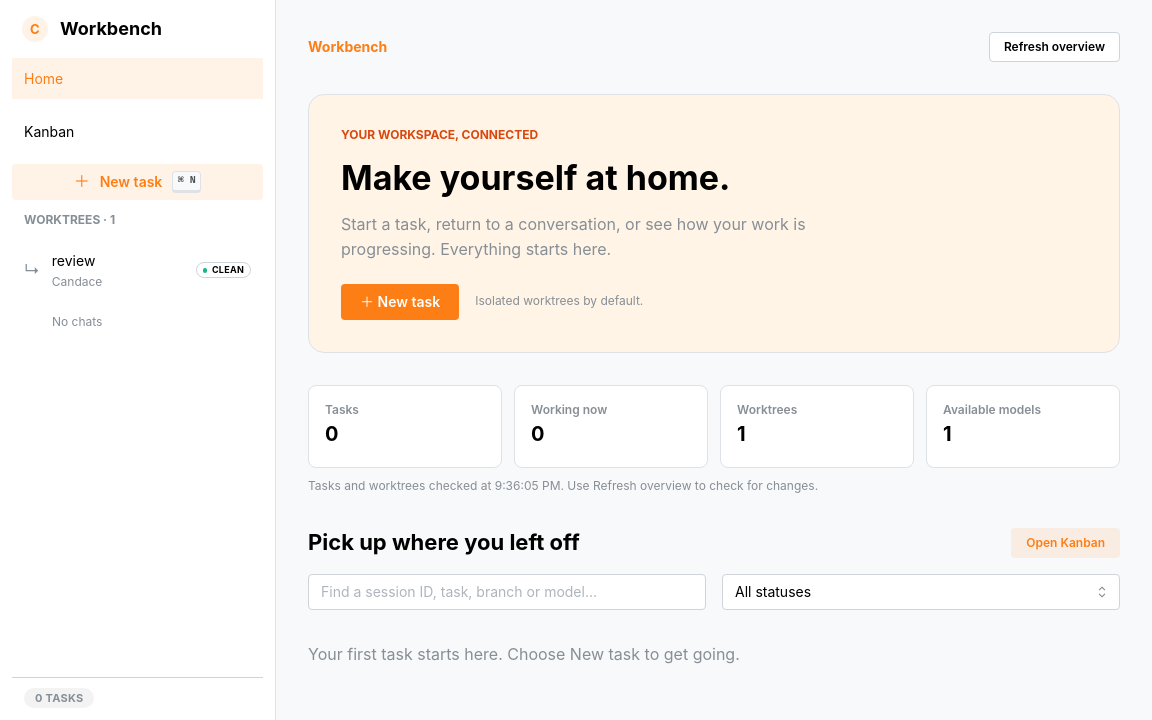
Scenario: App resource reloads › refreshes an Auto-only catalog into real choices without retaining an unavailable selection
The image size is (1152, 720).
Click the button "＋ New task ⌘ N" at (138,182), box [12,164,263,200]
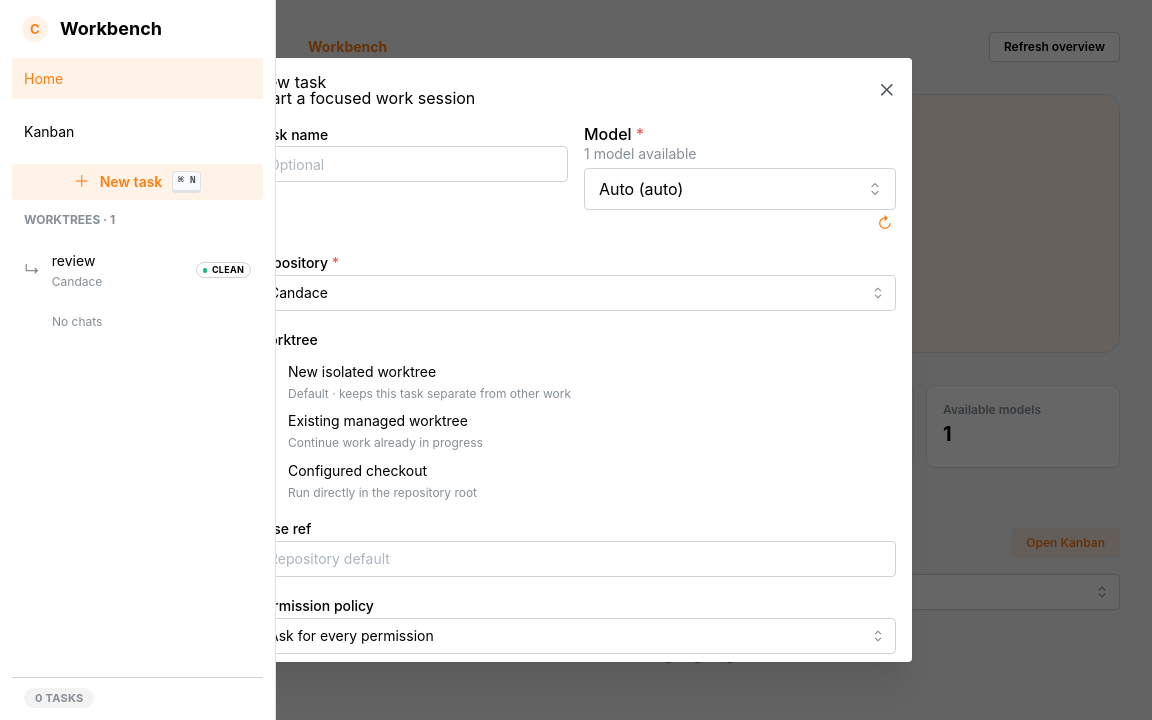
Now the dropdown labelled "Model" shows "Auto (auto)", box [584,168,896,210]
Now the text "1 model available" is shown, box [584,145,696,162]
Click the button named "Refresh models" at (885,223), box [874,212,896,234]
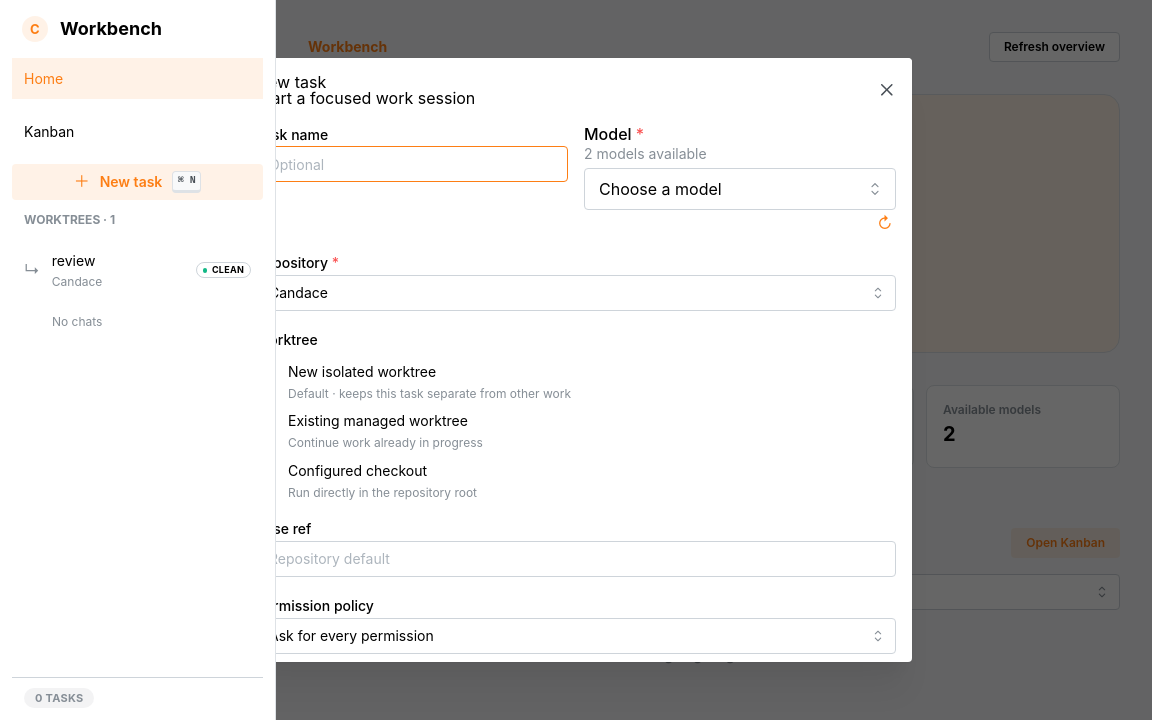
Expected: the option "Auto" is not shown
Now the dropdown labelled "Model" shows "Choose a model"
Select "Second model (second-model)" in the dropdown labelled "Model" at (740,189), box [584,168,896,210]
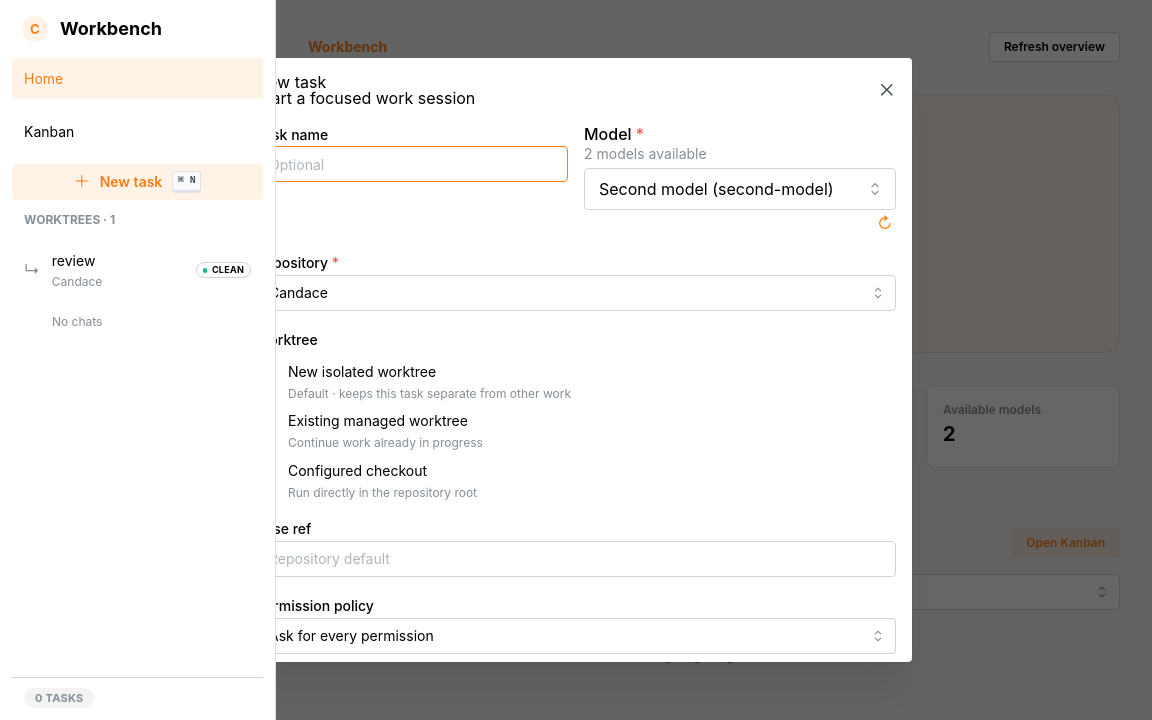
Click the button named "Refresh models" at (885,223), box [874,212,896,234]
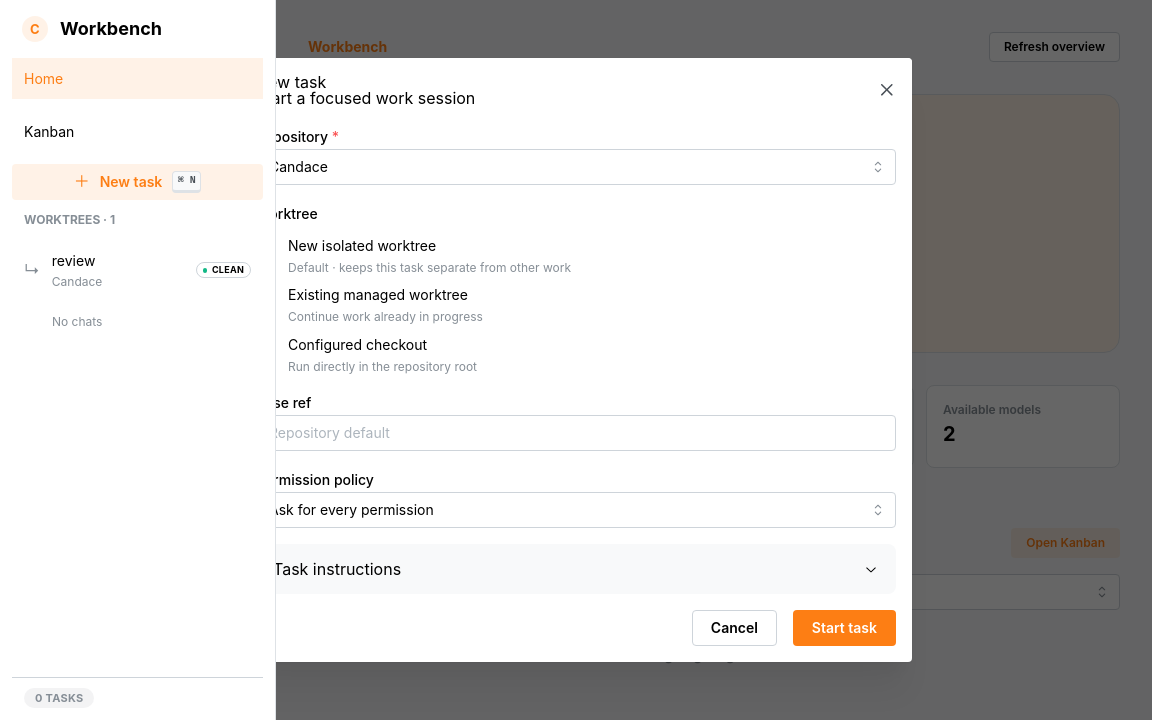
Now the button "Start task" is enabled, box [793,610,896,646]
